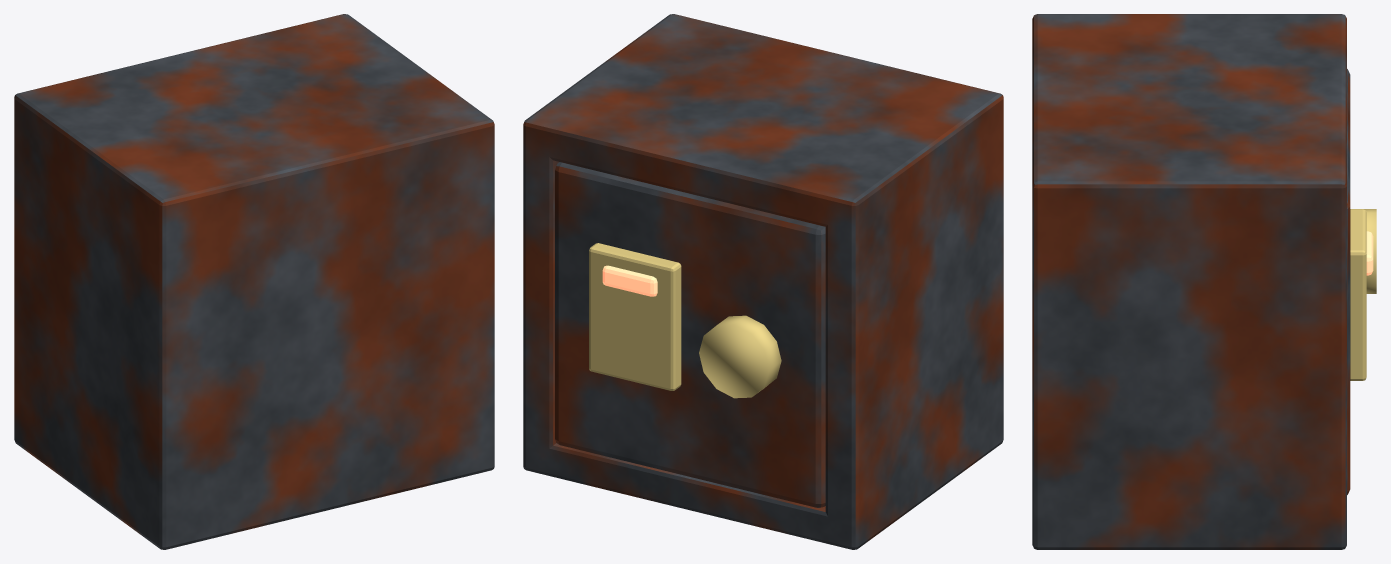
The model's file is safe_wall.glb.
The picture shows the model from 3 angles, left to right: view 1: azimuth 30°, elevation 25°; view 2: azimuth 150°, elevation 25°; view 3: azimuth 270°, elevation 25°; orthographic projection. The views are drawn at different scales.
Parts seen in each view (by area): view 1: SafeShellBack, SafeShellL, SafeShellTop, SafeShellBot, SafeShellR; view 2: SafeShellL, SafeDoor, SafeShellTop, SafeShellR, SafeShellBot, KeypadPanel, SafeShellBack, WheelHandle, KeypadLED; view 3: SafeShellR, SafeShellTop, SafeShellBack, SafeShellBot, SafeShellL, KeypadPanel, SafeDoor, WheelHandle.
Part boxes in pixels (bbox=[...]): SafeShellBack: bbox=[145, 110, 494, 549]; SafeShellL: bbox=[14, 87, 178, 541]; SafeShellTop: bbox=[19, 19, 451, 218]; SafeShellBot: bbox=[14, 415, 153, 544]; SafeShellR: bbox=[321, 14, 486, 120]; SafeShellL: bbox=[825, 92, 996, 548]; SafeDoor: bbox=[555, 162, 825, 507]; SafeShellTop: bbox=[523, 30, 996, 229]; SafeShellR: bbox=[523, 19, 689, 475]; SafeShellBot: bbox=[523, 420, 996, 549]; KeypadPanel: bbox=[589, 243, 681, 390]; SafeShellBack: bbox=[658, 14, 1003, 447]; WheelHandle: bbox=[699, 315, 781, 398]; KeypadLED: bbox=[602, 265, 657, 296]; SafeShellR: bbox=[1050, 169, 1346, 547]; SafeShellTop: bbox=[1051, 20, 1346, 214]; SafeShellBack: bbox=[1032, 14, 1066, 549]; SafeShellBot: bbox=[1050, 519, 1346, 549]; SafeShellL: bbox=[1051, 14, 1346, 30]; KeypadPanel: bbox=[1350, 209, 1366, 380]; SafeDoor: bbox=[1347, 69, 1350, 494]; WheelHandle: bbox=[1363, 209, 1376, 293].
Size of the model in its own units: 0.62 by 0.62 by 0.5251.
Materials: 3 (1 with a texture image).
